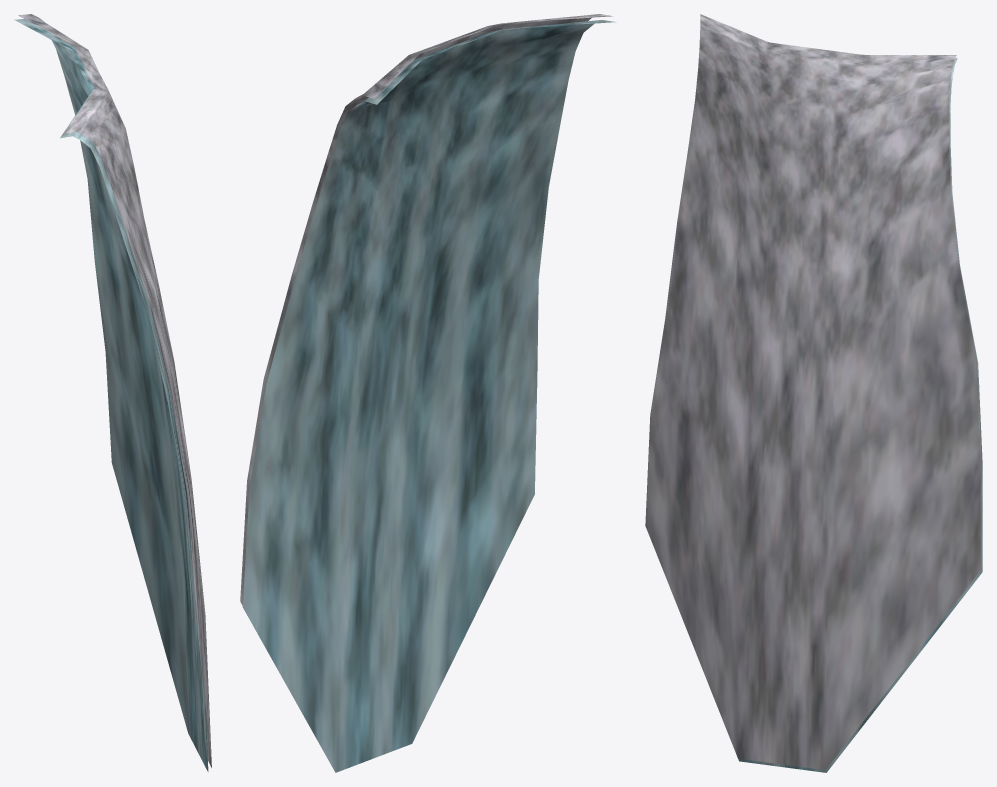
File: TROLLHOLE02_WATERFALLIN03.fbx
The picture shows the model from 3 angles, left to right: view 1: azimuth 30°, elevation 25°; view 2: azimuth 150°, elevation 25°; view 3: azimuth 270°, elevation 25°; orthographic projection. The views are drawn at different scales.
Visible parts, largest first — view 1: TROLLHOLE02_WATERFALLIN03; view 2: TROLLHOLE02_WATERFALLIN03; view 3: TROLLHOLE02_WATERFALLIN03.
Part boxes in pixels (x1,y1,x2,y2): TROLLHOLE02_WATERFALLIN03: (14,14,211,771); TROLLHOLE02_WATERFALLIN03: (240,14,616,772); TROLLHOLE02_WATERFALLIN03: (645,14,982,772).
Bounding box in the file's own units: 36459 × 121064 × 54957.
2 materials, 2 textured.
